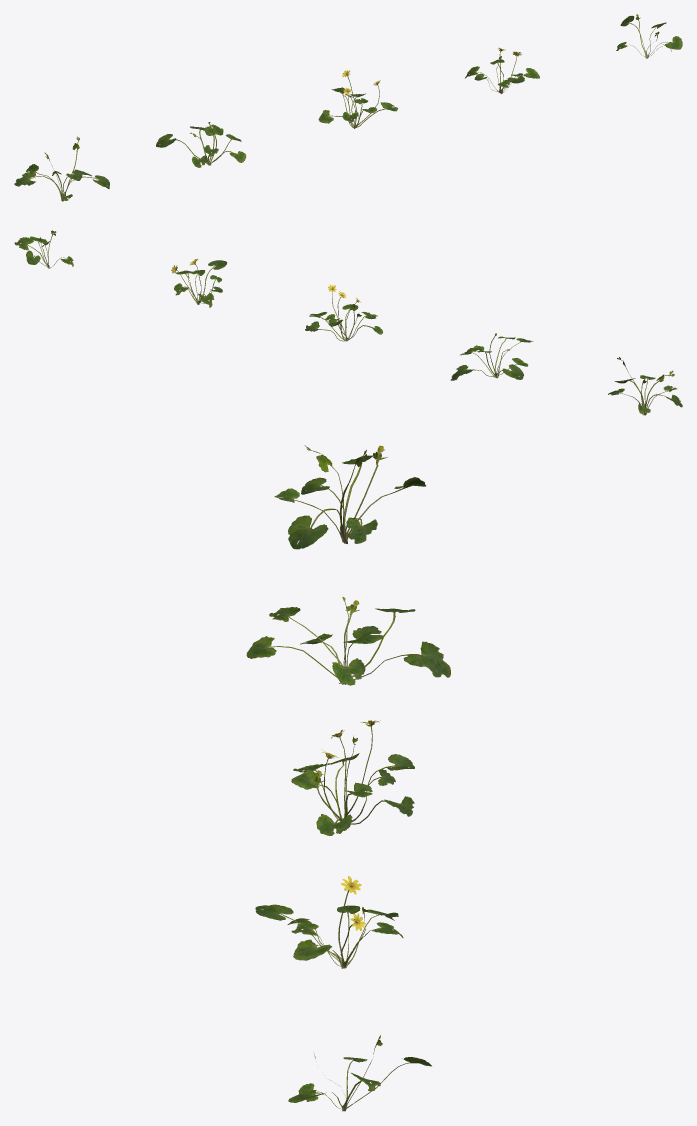
File: celandine_01.glb
3 renders of one model, top to bottom at view 1: azimuth 30°, elevation 25°; view 2: azimuth 150°, elevation 25°; view 3: azimuth 270°, elevation 25°, orthographic. The views are drawn at different scales.
Visible parts, largest first — view 1: celandine_01_b_LOD0, celandine_01_c_LOD0, celandine_01_a_LOD0, celandine_01_d_LOD0, celandine_01_e_LOD0; view 2: celandine_01_c_LOD0, celandine_01_b_LOD0, celandine_01_d_LOD0, celandine_01_a_LOD0, celandine_01_e_LOD0; view 3: celandine_01_b_LOD0, celandine_01_a_LOD0, celandine_01_c_LOD0, celandine_01_d_LOD0, celandine_01_e_LOD0.
Part boxes in pixels (bbox=[...]): celandine_01_b_LOD0: bbox=[156, 122, 246, 167]; celandine_01_c_LOD0: bbox=[318, 70, 397, 128]; celandine_01_a_LOD0: bbox=[14, 136, 109, 201]; celandine_01_d_LOD0: bbox=[465, 47, 539, 93]; celandine_01_e_LOD0: bbox=[616, 14, 682, 58]; celandine_01_c_LOD0: bbox=[305, 284, 382, 341]; celandine_01_b_LOD0: bbox=[450, 333, 533, 380]; celandine_01_d_LOD0: bbox=[171, 258, 226, 307]; celandine_01_a_LOD0: bbox=[608, 357, 682, 415]; celandine_01_e_LOD0: bbox=[14, 230, 73, 268]; celandine_01_b_LOD0: bbox=[246, 597, 450, 685]; celandine_01_a_LOD0: bbox=[274, 445, 425, 549]; celandine_01_c_LOD0: bbox=[291, 720, 414, 835]; celandine_01_d_LOD0: bbox=[255, 876, 403, 968]; celandine_01_e_LOD0: bbox=[288, 1035, 431, 1111].
Size of the model in its own units: 2.24 by 0.1859 by 0.3067.
1 material, 1 textured.
